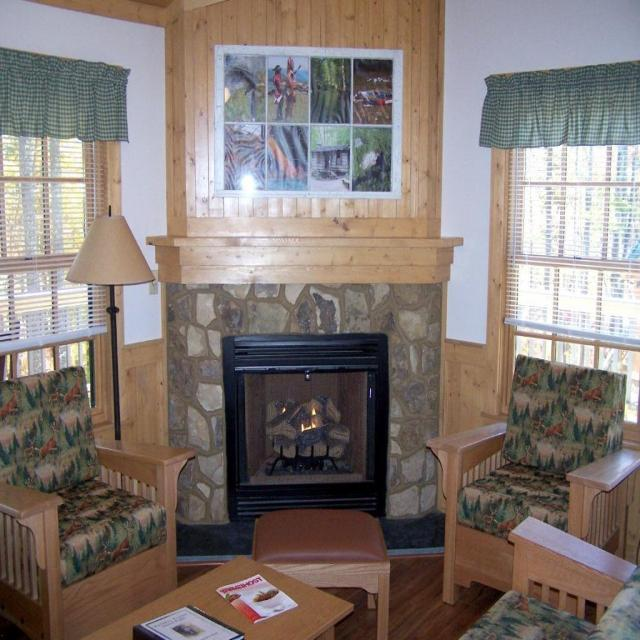Fire: (287, 399, 327, 436)
